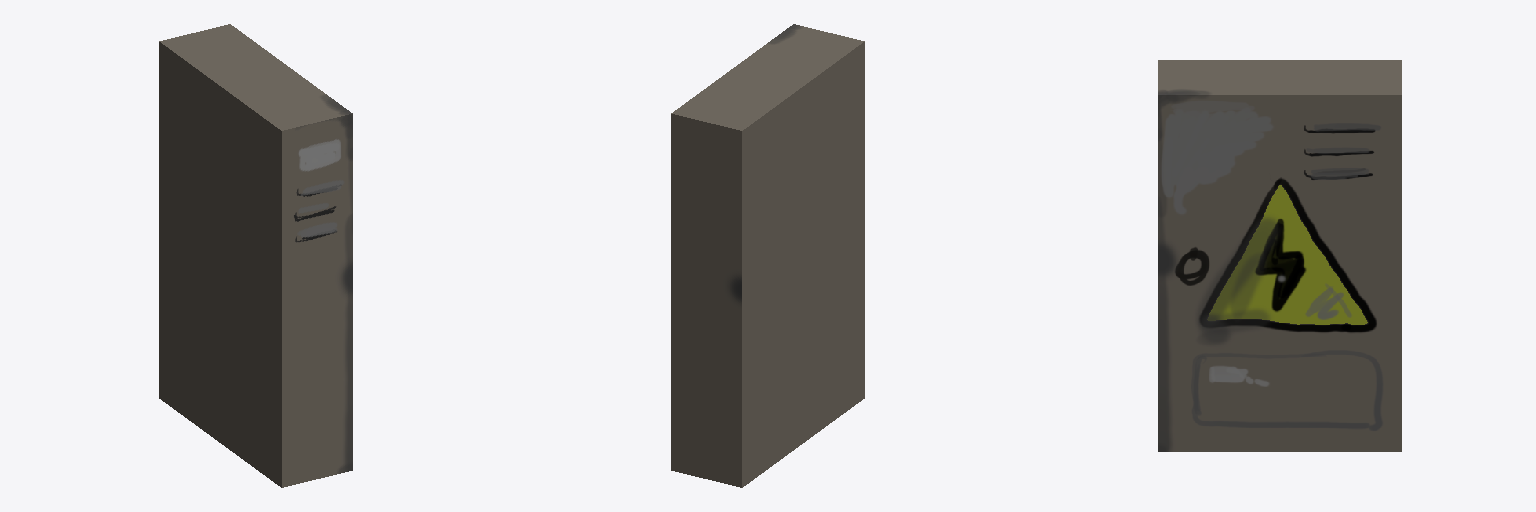
3 renders of one model, left to right at view 1: azimuth 30°, elevation 25°; view 2: azimuth 150°, elevation 25°; view 3: azimuth 270°, elevation 25°, orthographic.
Visible parts, largest first — view 1: stromkasten_Cube.002; view 2: stromkasten_Cube.002; view 3: stromkasten_Cube.002.
Part boxes in pixels (x1,y1,x2,y2): stromkasten_Cube.002: (159, 24, 352, 487); stromkasten_Cube.002: (671, 24, 864, 487); stromkasten_Cube.002: (1158, 60, 1401, 451).
Bounding box in the file's own units: 0.1746 × 0.8363 × 0.5201.
1 materials, 1 textured.